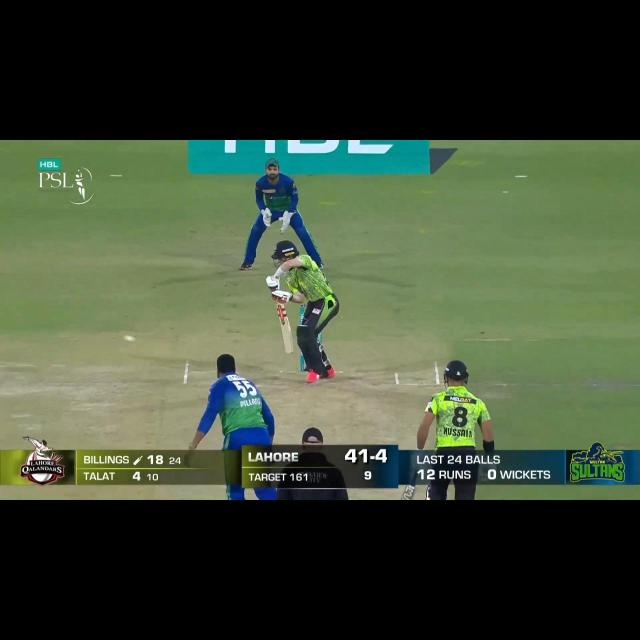bat: (274, 304, 295, 356)
toe: (282, 340, 296, 355)
